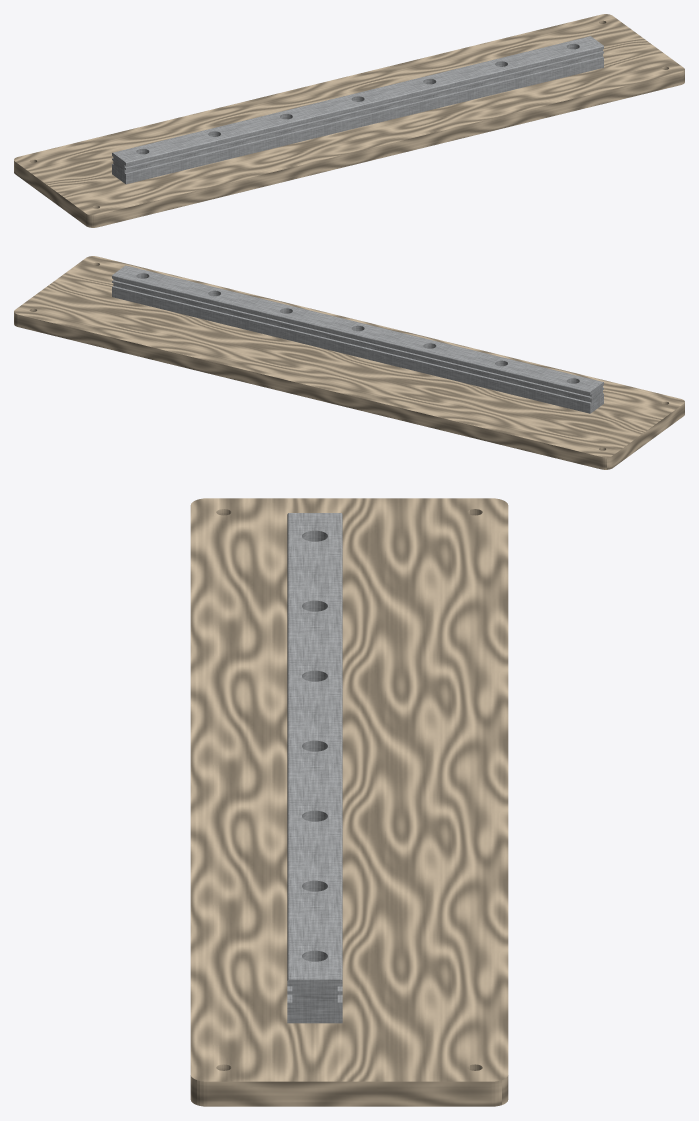
Rendered from step-2.glb.
The picture shows the model from 3 angles, top to bottom: view 1: azimuth 30°, elevation 25°; view 2: azimuth 150°, elevation 25°; view 3: azimuth 270°, elevation 25°; orthographic projection. The views are drawn at different scales.
Parts seen in each view (by area): view 1: base-plate__mesh, rail__mesh; view 2: base-plate__mesh, rail__mesh; view 3: base-plate__mesh, rail__mesh.
Part boxes in pixels (x1=…): base-plate__mesh: x1=14, y1=14, x2=684, y2=227; rail__mesh: x1=112, y1=36, x2=603, y2=184; base-plate__mesh: x1=14, y1=256, x2=684, y2=469; rail__mesh: x1=112, y1=265, x2=603, y2=413; base-plate__mesh: x1=190, y1=498, x2=508, y2=1106; rail__mesh: x1=287, y1=513, x2=342, y2=1023.
Size of the model in its own units: 0.5 by 0.0275 by 0.115.
2 materials, 2 textured.
